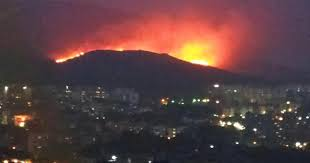fire: (177, 36, 222, 69)
smoke: (42, 1, 152, 44), (251, 6, 307, 82)
